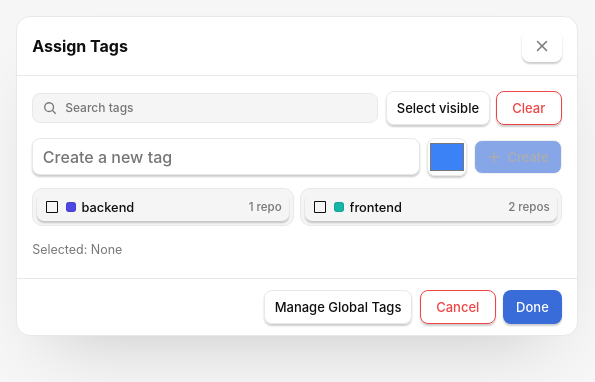
Test: TagSelectionModal › filters tags and clears the text search independently from tag assignment
Type "back" into the field labelled "Search tags" at (205, 108), box [33, 94, 377, 122]
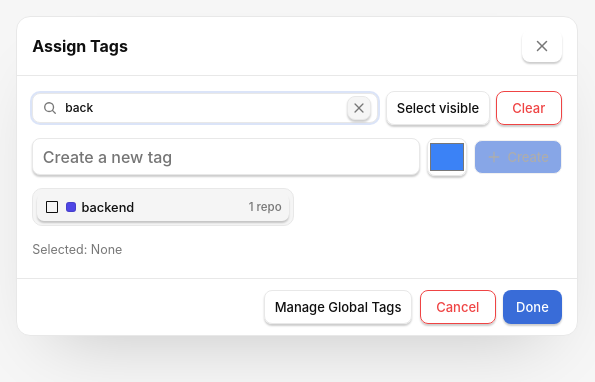
Check: the button "backend 1 repo" is shown, box [37, 193, 289, 221]
Check: the button "frontend" is gone
Click the button named "clear search" at (359, 108), box [347, 96, 371, 120]
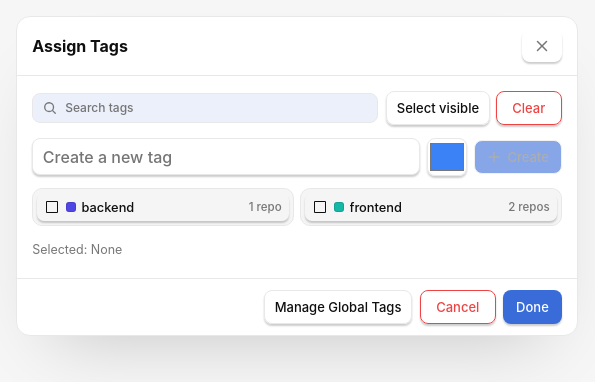
Check: the field labelled "Search tags" is empty, box [33, 94, 377, 122]
Check: the button "frontend 2 repos" is shown, box [305, 193, 557, 221]
